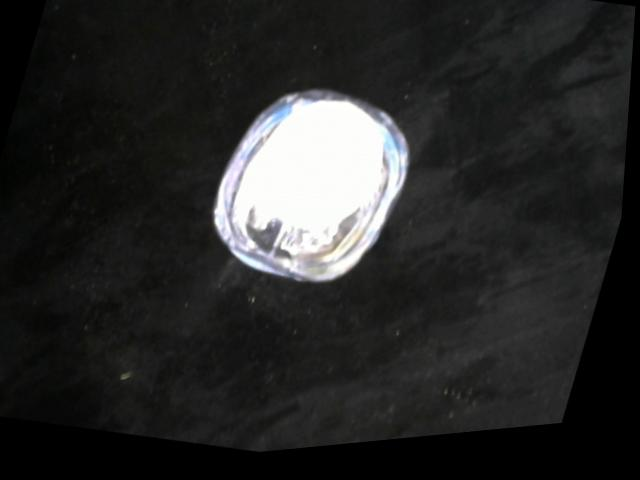bottle: (195, 67, 434, 315)
